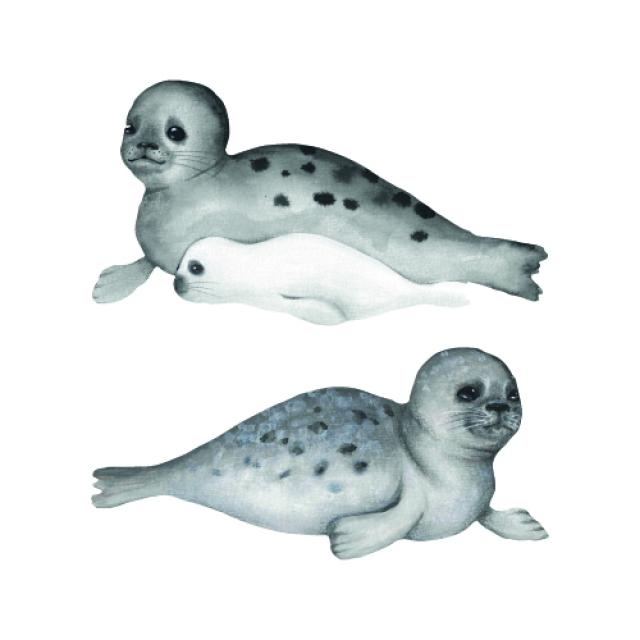WaterDog: (91, 74, 574, 329), (86, 342, 562, 563)
